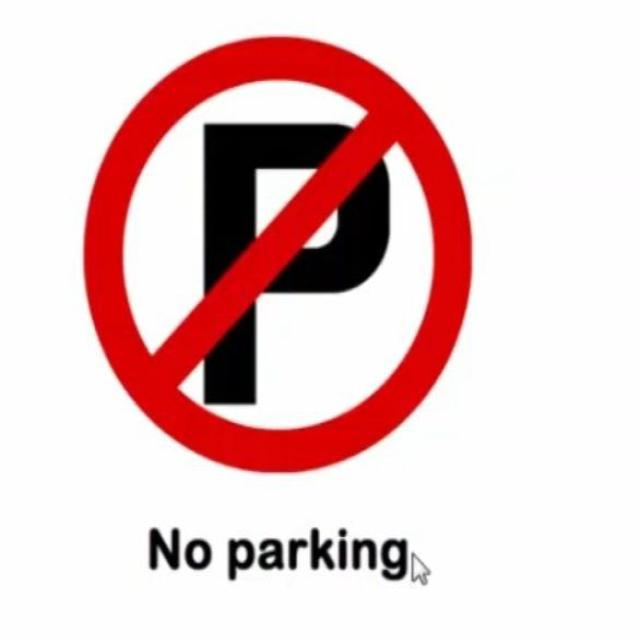No_parking: (83, 36, 475, 474)
